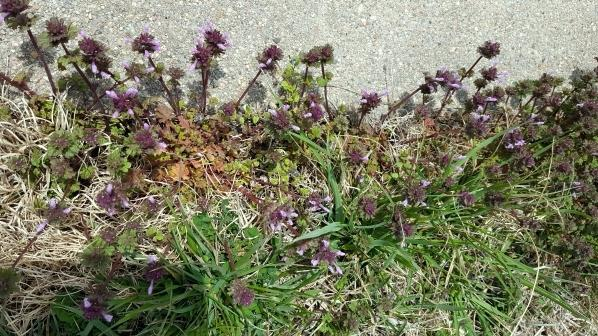crabgrass: (305, 176, 436, 285), (158, 216, 276, 336), (469, 231, 550, 332)
